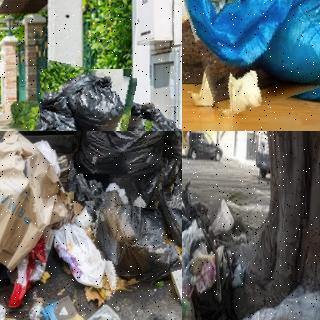Garbage: (182, 0, 320, 109), (90, 184, 179, 286), (69, 131, 172, 205), (36, 64, 134, 131), (204, 286, 320, 320), (151, 161, 182, 254)
